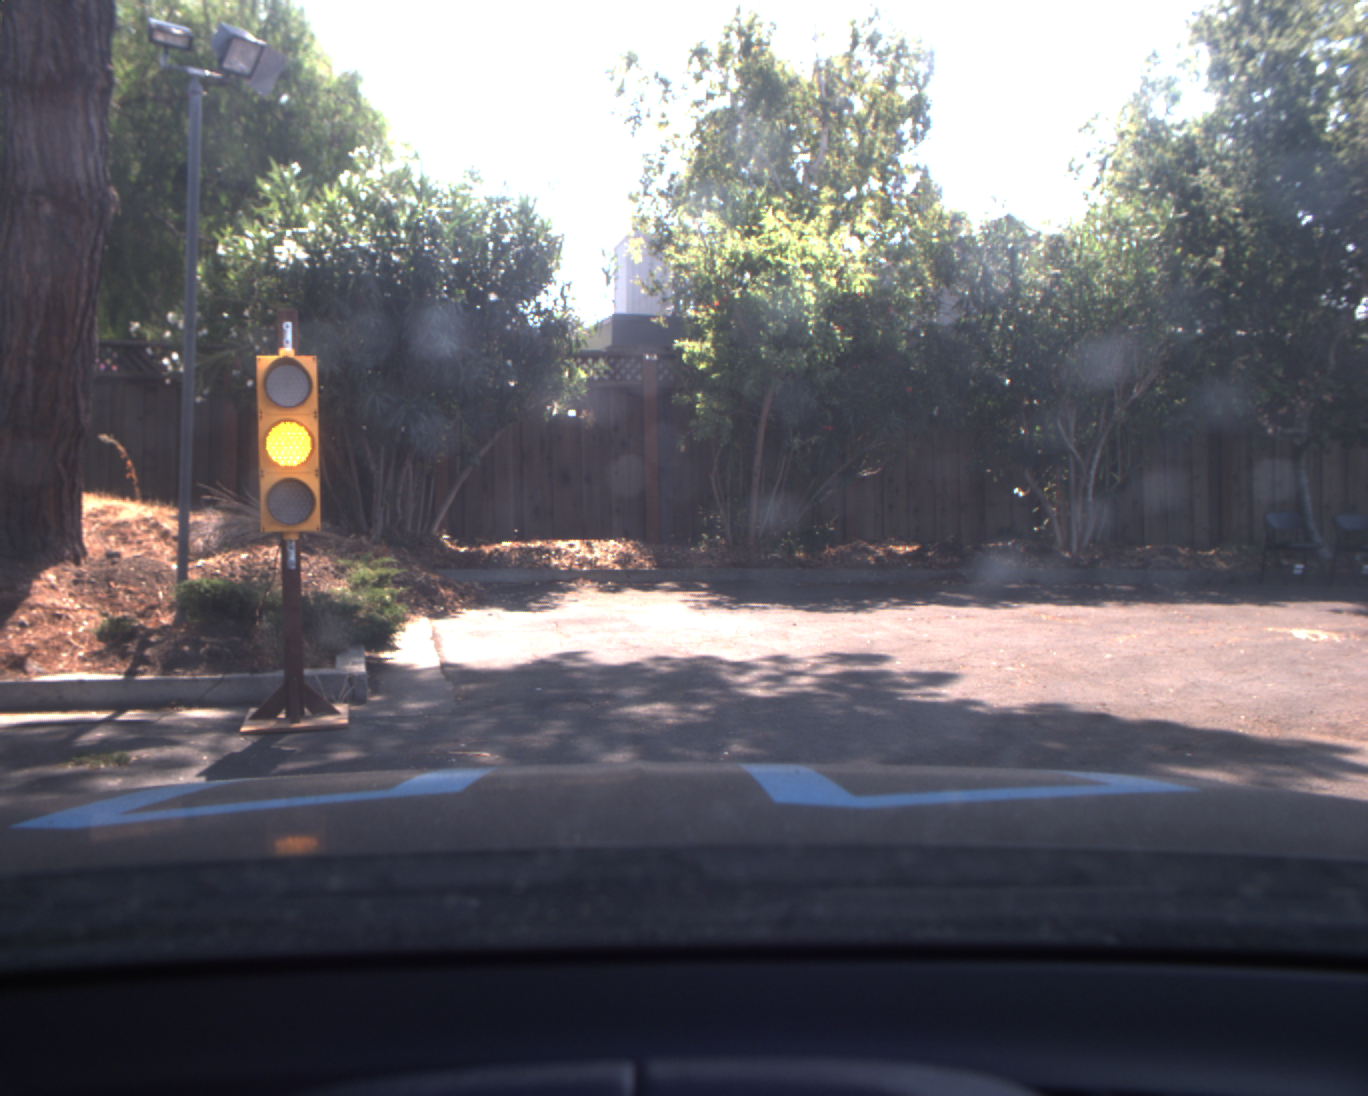yellow: (256, 355, 326, 533)
